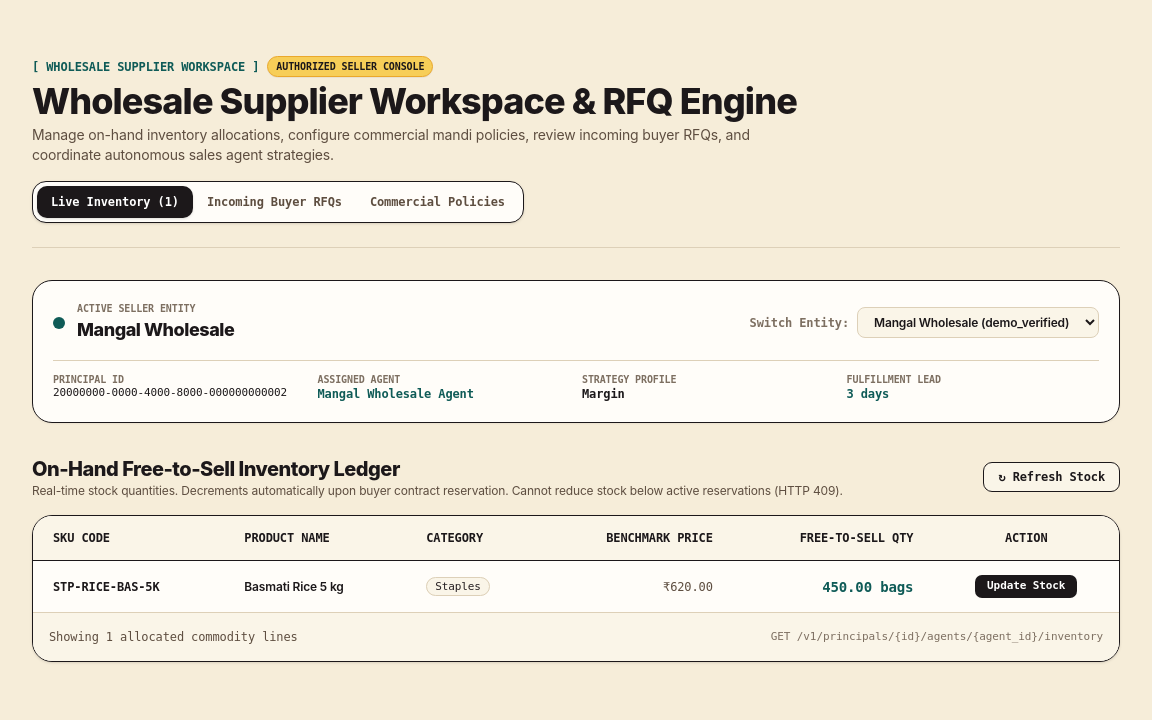
it: Seller Workspace Page › updates stock quantity in modal
Expected: the text "STP-RICE-BAS-5K" is shown, x1=33 y1=561 x2=224 y2=612
Click the button "Update Stock". click: (1026, 587)
box: x1=975 y1=575 x2=1077 y2=598
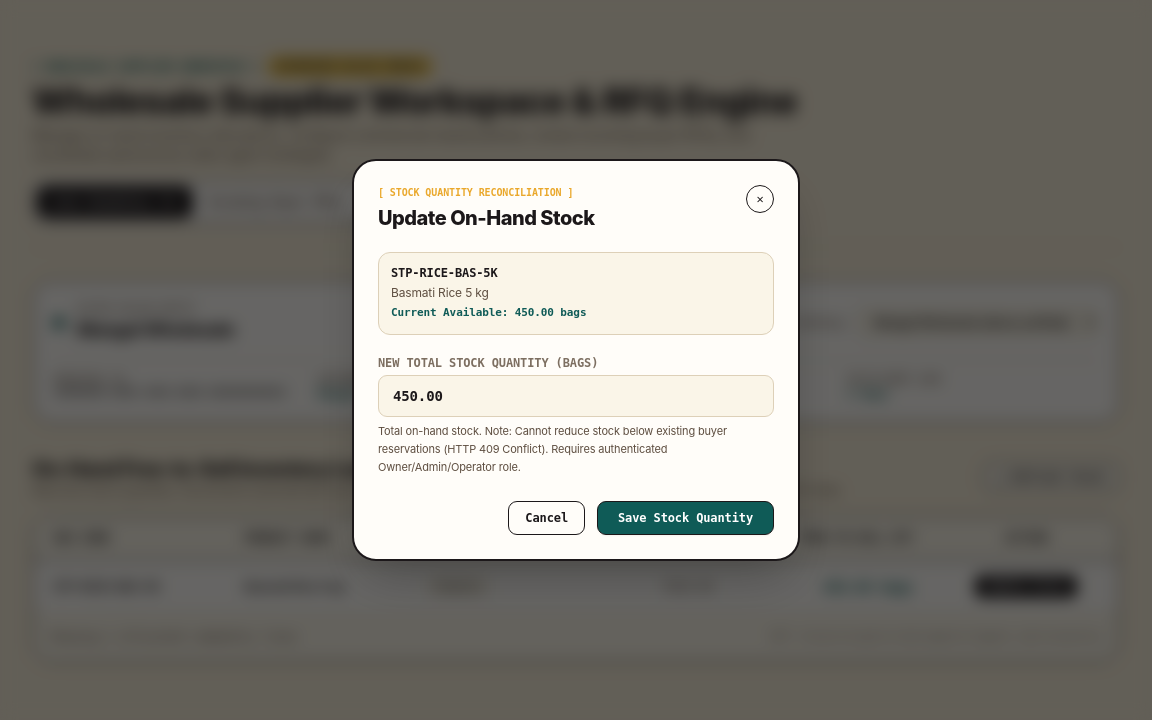
Result: the dialog is shown
Replace the text in the number field labelled "New Total Stock Quantity (bags)" with "600". click: (576, 396)
box: x1=378 y1=375 x2=774 y2=417
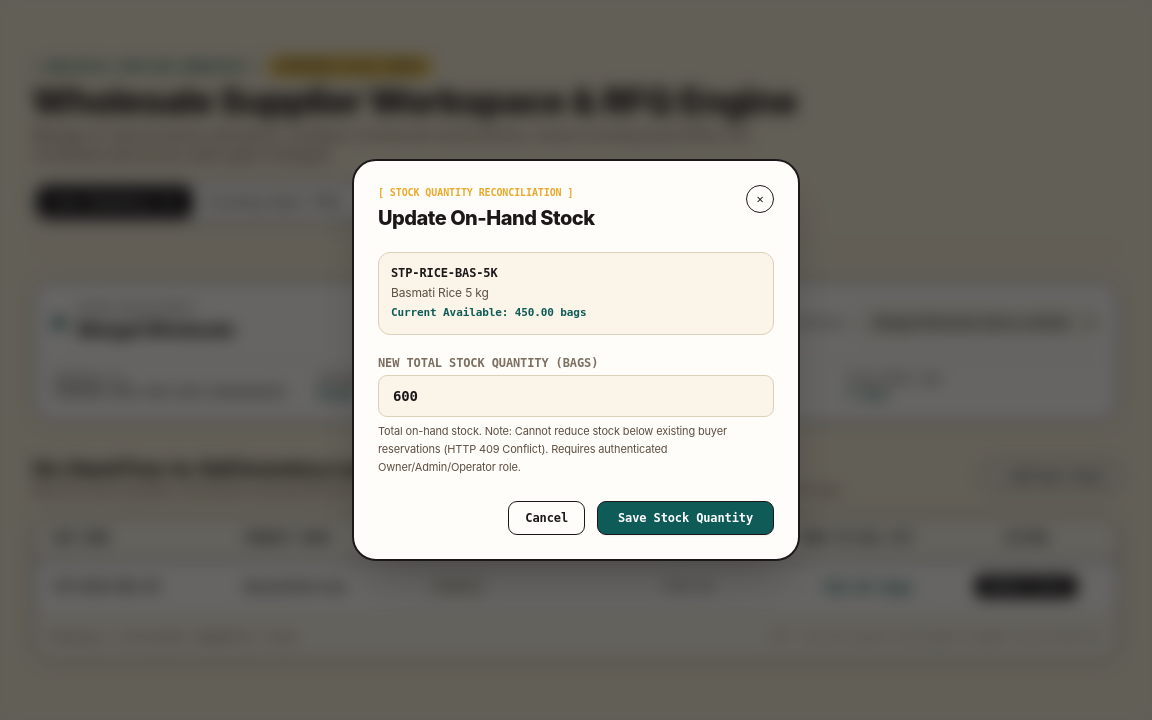
Click the button "Save Stock Quantity". click: (686, 518)
box: x1=597 y1=501 x2=774 y2=535
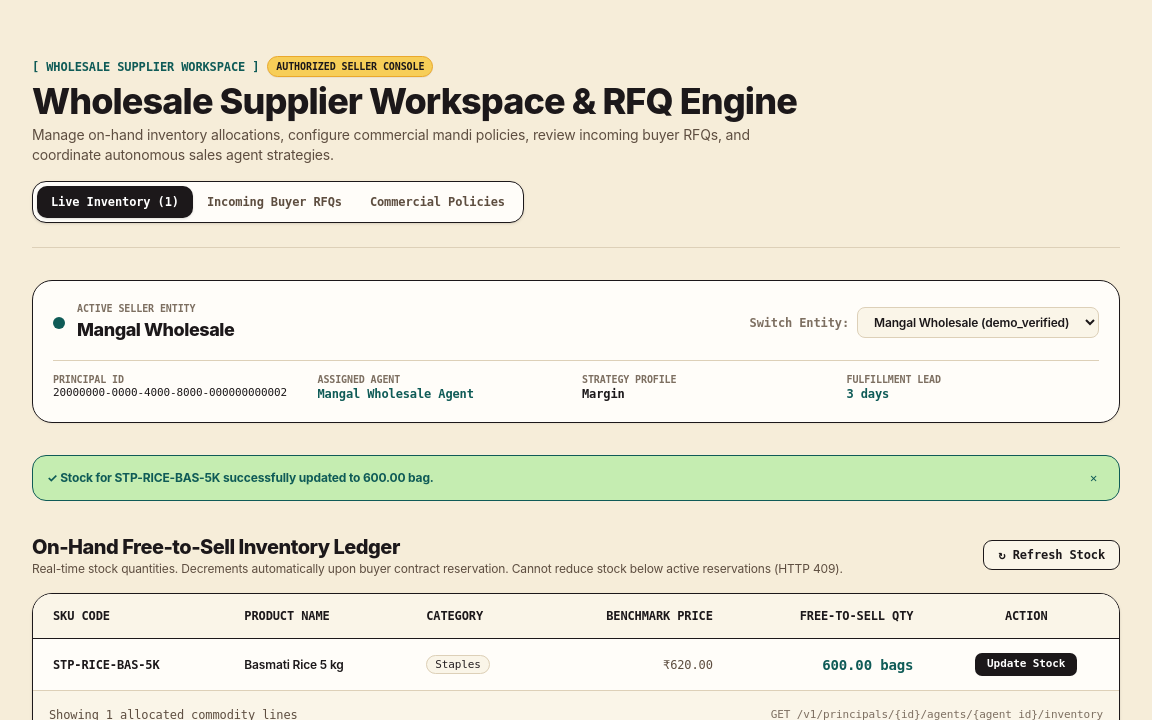
Result: the text "successfully updated to 600.00 bag" is shown at x1=60 y1=470 x2=434 y2=485
